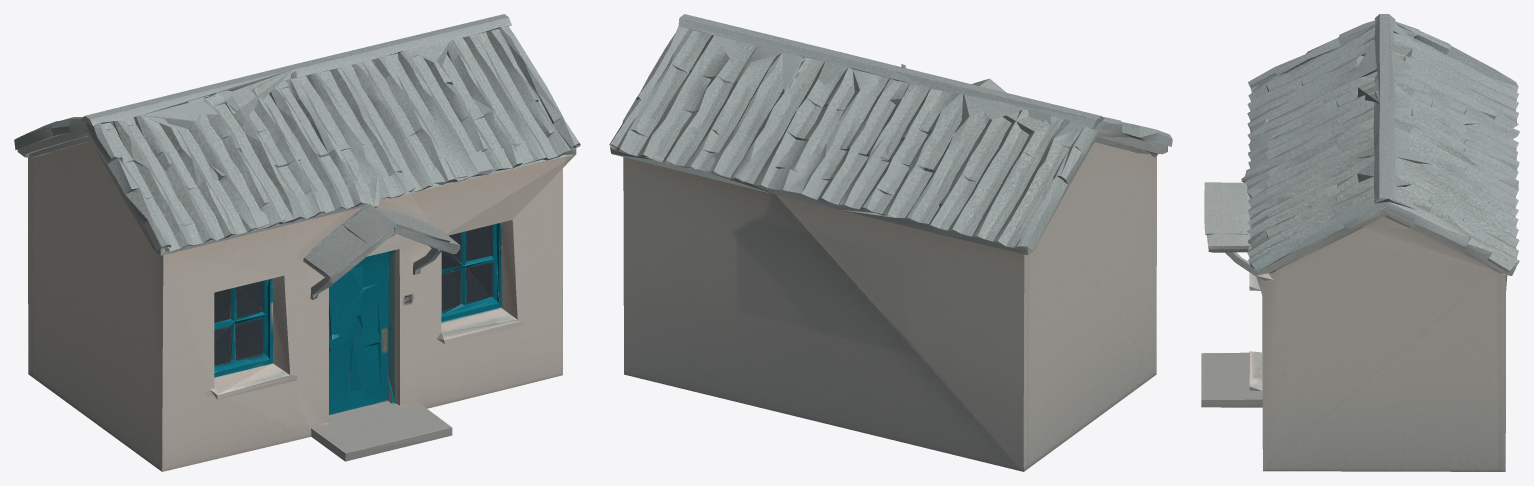
File: House_exterior.glb
3 renders of one model, left to right at view 1: azimuth 30°, elevation 25°; view 2: azimuth 150°, elevation 25°; view 3: azimuth 270°, elevation 25°, orthographic. The views are drawn at different scales.
Bounding box in the file's own units: 1.9 × 1.32 × 1.37.
Materials: 1 (1 with a texture image).
